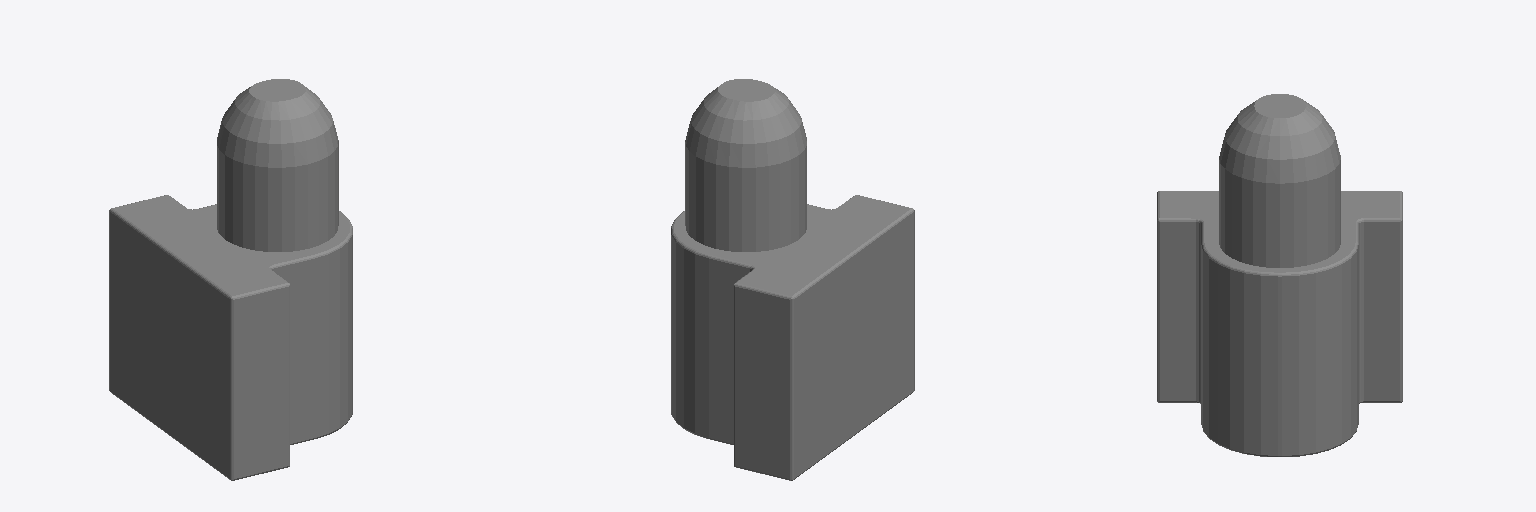
The model's file is SorlarPanelConnector.obj.
3 renders of one model, left to right at view 1: azimuth 30°, elevation 25°; view 2: azimuth 150°, elevation 25°; view 3: azimuth 270°, elevation 25°, orthographic.
Visible parts, largest first — view 1: Line059, Circle050; view 2: Line059, Circle050; view 3: Line059, Circle050.
Boxes of the visible parts, <box> form: Line059: <box>109,195,352,480</box>; Circle050: <box>217,79,338,251</box>; Line059: <box>671,195,914,480</box>; Circle050: <box>685,79,806,251</box>; Line059: <box>1157,191,1402,456</box>; Circle050: <box>1219,94,1340,267</box>.
Size of the model in its own units: 9.77 by 17.38 by 12.08.